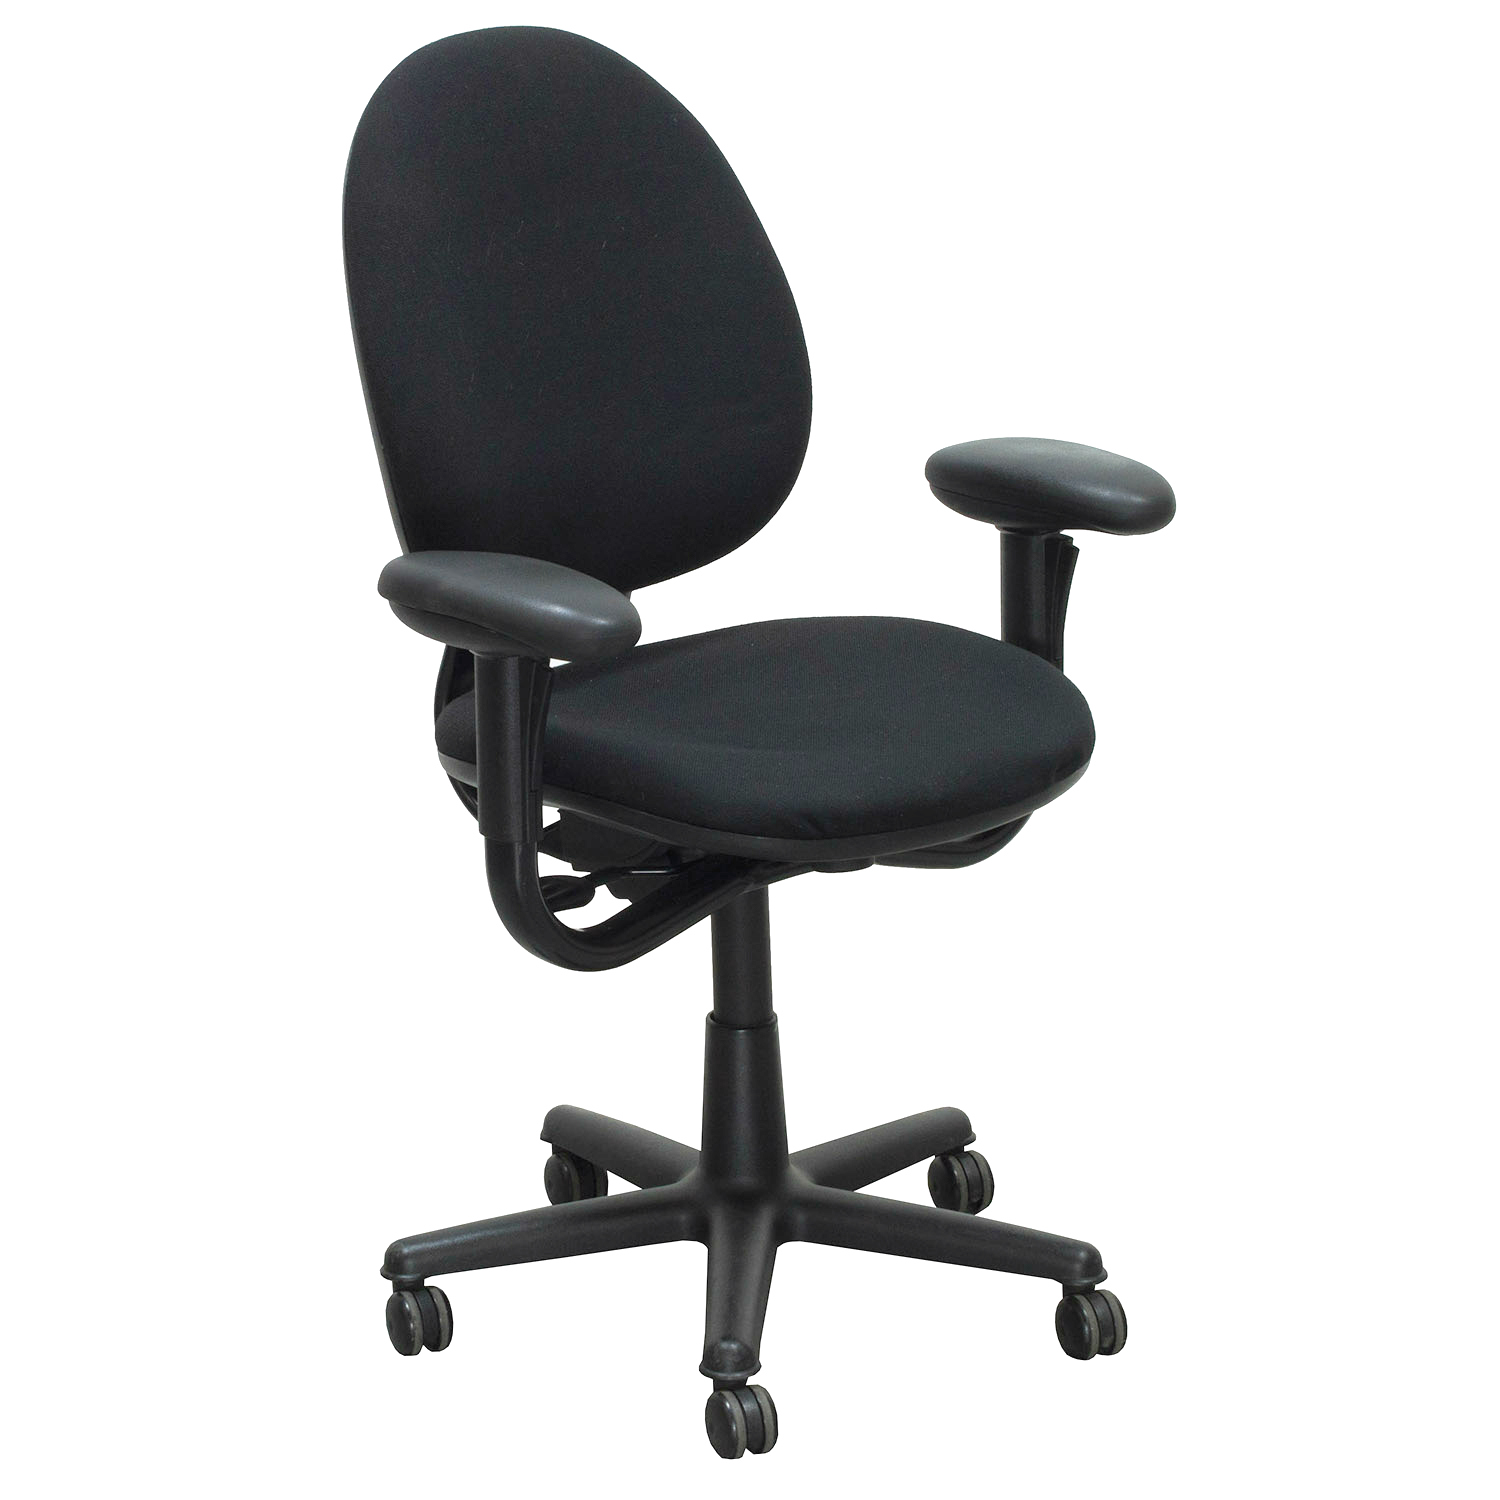chairs: (343, 23, 1179, 1462)
